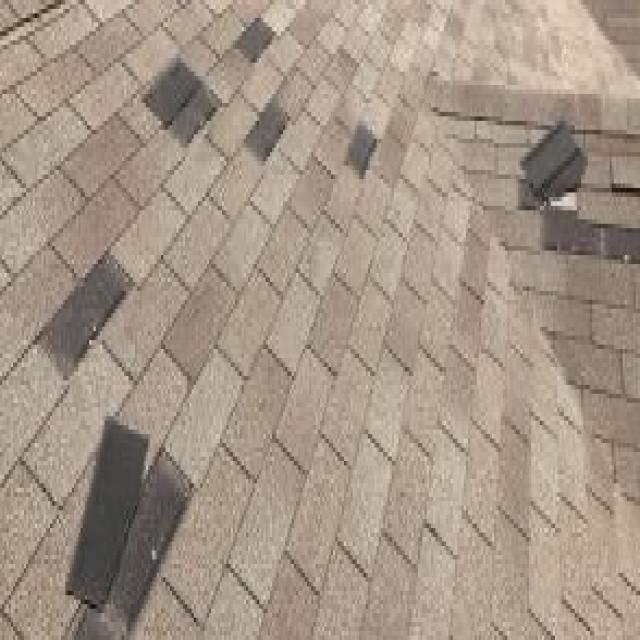damage: (51, 407, 209, 634), (25, 229, 144, 393), (515, 114, 640, 270), (138, 48, 228, 157), (241, 92, 294, 173), (224, 8, 282, 75), (342, 112, 381, 187)
